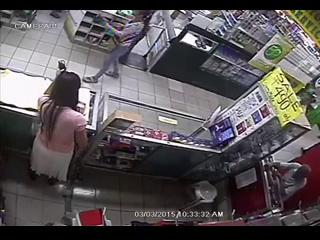Normal: (29, 67, 90, 191), (82, 12, 154, 84)
